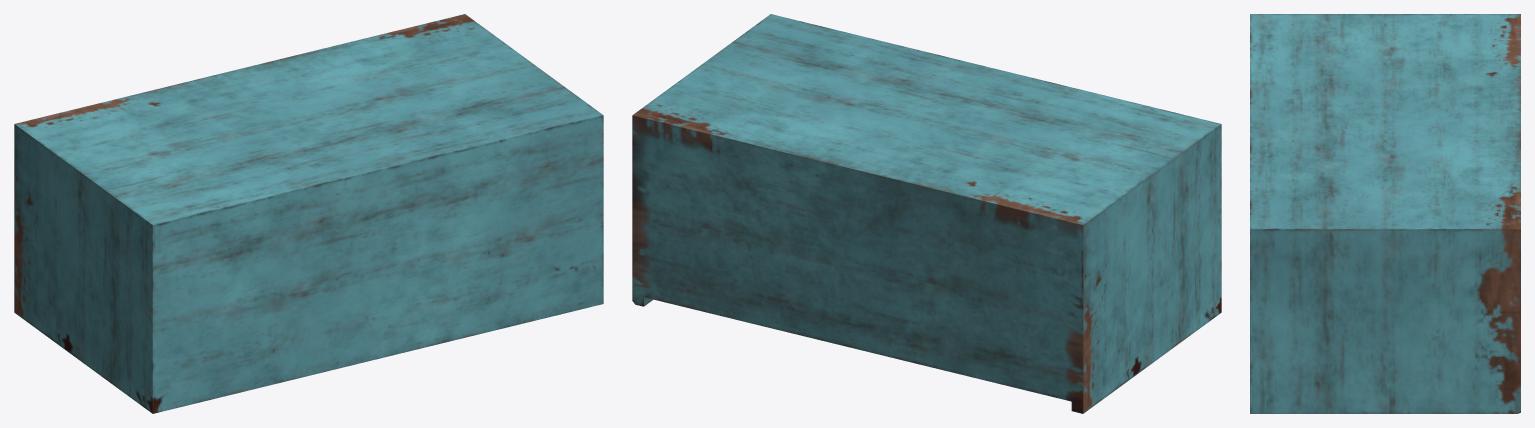
Rendered from old-filing-cabinet-89729f.glb.
3 views of the same model, side by side, from view 1: azimuth 30°, elevation 25°; view 2: azimuth 150°, elevation 25°; view 3: azimuth 270°, elevation 25° (orthographic). The views are drawn at different scales.
Parts seen in each view (by area): view 1: PropMesh; view 2: PropMesh; view 3: PropMesh.
Boxes of the visible parts, box(x1,y1,x2,y2) form: PropMesh: box(14, 14, 603, 413); PropMesh: box(632, 14, 1221, 413); PropMesh: box(1250, 14, 1520, 413).
Bounding box in the file's own units: 1.5 × 0.6395 × 0.7977.
1 material, 1 textured.
